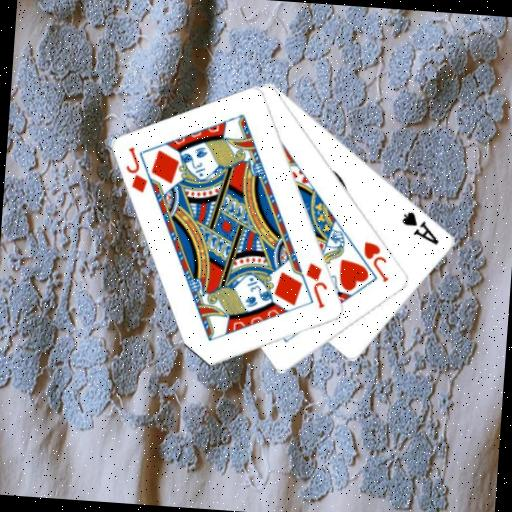AS: (398, 207, 444, 247)
JD: (301, 259, 331, 311), (122, 144, 152, 196)
JH: (359, 238, 394, 285)
